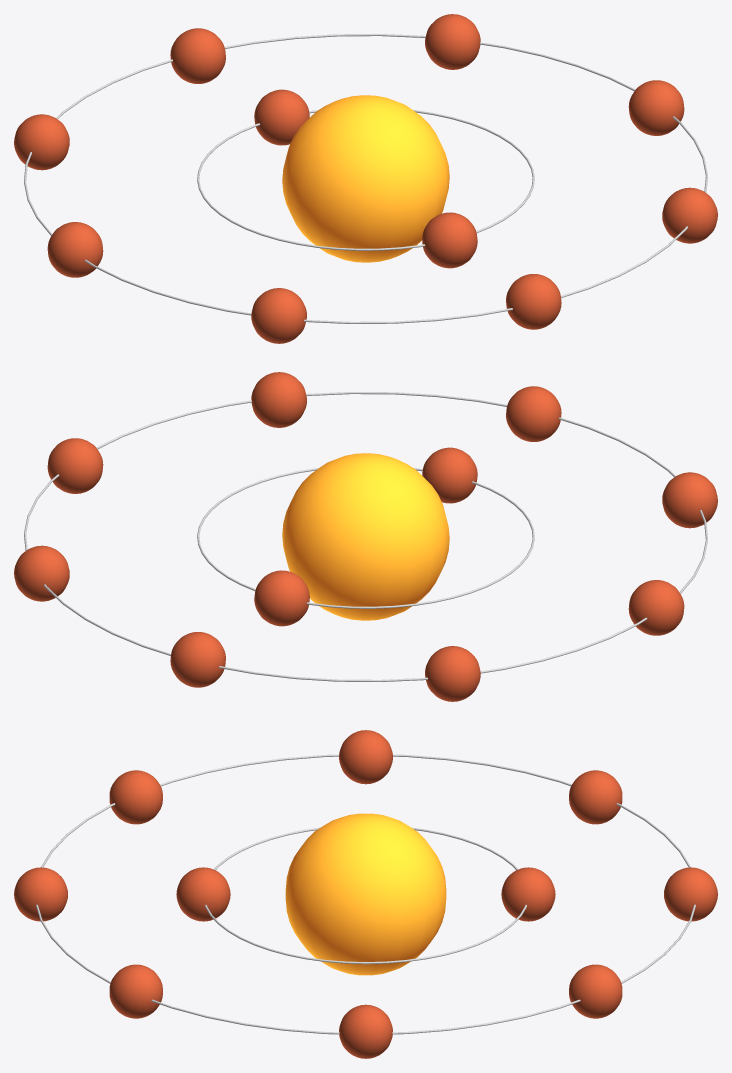
Rendered from Group 0 - Neon Ne.glb.
The picture shows the model from 3 angles, top to bottom: view 1: azimuth 30°, elevation 25°; view 2: azimuth 150°, elevation 25°; view 3: azimuth 270°, elevation 25°; orthographic projection. The views are drawn at different scales.
Parts seen in each view (by area): view 1: Nucleus, ring2, Electron9, Electron10, Electron1, Electron3, Electron11, Electron7, Electron8, Electron5, Electron2, Electron4 (+1 smaller); view 2: Nucleus, ring2, Electron4, Electron11, Electron2, Electron5, Electron10, Electron7, Electron8, Electron3, Electron1, Electron9 (+1 smaller); view 3: Nucleus, ring2, Electron7, Electron8, Electron3, Electron5, Electron1, Electron2, Electron4, Electron9, Electron10, Electron11 (+1 smaller).
Boxes of the visible parts, x1,y1,x2,y2 form: Nucleus: [282, 95, 449, 262]; ring2: [24, 34, 707, 323]; Electron9: [422, 212, 477, 268]; Electron10: [170, 28, 225, 83]; Electron1: [425, 14, 480, 69]; Electron3: [251, 288, 306, 343]; Electron11: [506, 274, 561, 329]; Electron7: [628, 80, 684, 135]; Electron8: [47, 222, 103, 277]; Electron5: [14, 114, 69, 170]; Electron2: [662, 187, 717, 243]; Electron4: [254, 89, 309, 145]; Nucleus: [282, 453, 449, 620]; ring2: [24, 392, 707, 681]; Electron4: [254, 570, 309, 626]; Electron11: [506, 386, 561, 441]; Electron2: [251, 372, 306, 427]; Electron5: [425, 646, 480, 701]; Electron10: [170, 632, 225, 687]; Electron7: [47, 438, 103, 493]; Electron8: [628, 580, 684, 635]; Electron3: [662, 472, 717, 528]; Electron1: [14, 545, 69, 601]; Electron9: [422, 447, 477, 503]; Nucleus: [285, 813, 446, 975]; ring2: [36, 754, 695, 1034]; Electron7: [339, 1004, 392, 1058]; Electron8: [339, 730, 392, 784]; Electron3: [109, 770, 162, 824]; Electron5: [569, 770, 622, 824]; Electron1: [569, 964, 622, 1018]; Electron2: [109, 964, 162, 1018]; Electron4: [501, 867, 555, 921]; Electron9: [176, 867, 230, 921]; Electron10: [664, 867, 717, 921]; Electron11: [14, 867, 67, 921].
Size of the model in its own units: 0.13 by 0.03 by 0.13.
